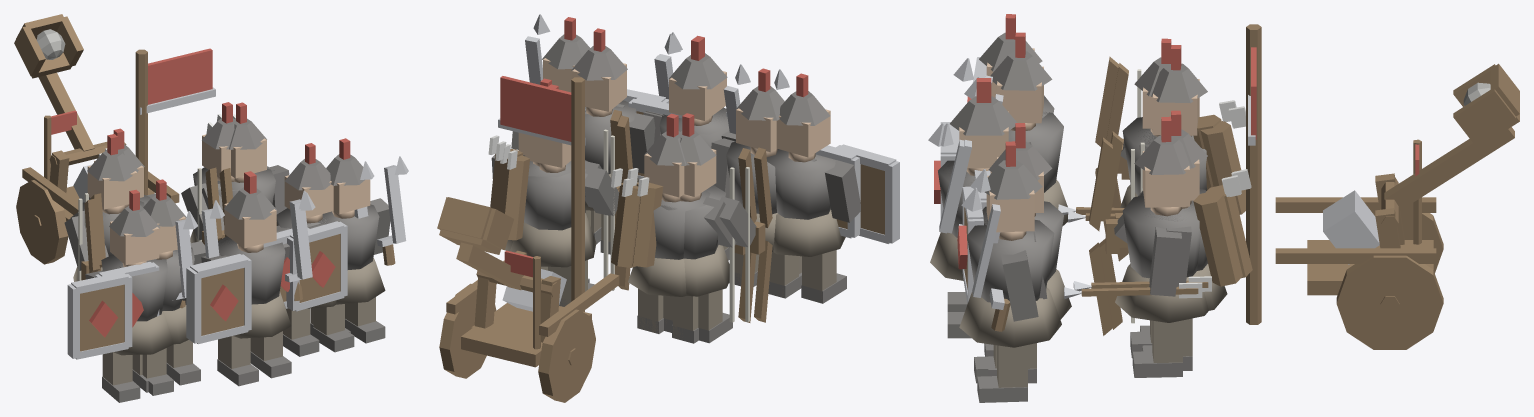
The model's file is troop-army-group.glb.
3 views of the same model, side by side, from view 1: azimuth 30°, elevation 25°; view 2: azimuth 150°, elevation 25°; view 3: azimuth 270°, elevation 25° (orthographic). The views are drawn at different scales.
Visible parts, largest first — view 1: siege_wheel_l, army_group_command_flag, front_l_shield, front_c_shield, front_r_body, front_c_body, front_l_body, army_group_command_flag_pole, front_r_shield, front_c_head, front_l_skirt, front_l_head (+78 smaller); view 2: siege_wheel_l, army_group_command_flag, front_l_body, siege_body, army_group_command_flag_pole, front_l_skirt, move_archer_r_body, move_archer_r_skirt, siege_wheel_r, move_archer_r_quiver, move_archer_l_quiver, archer_l_quiver (+70 smaller); view 3: siege_wheel_r, army_group_command_flag_pole, front_r_body, archer_r_quiver, front_r_skirt, archer_r_body, siege_arm, siege_arm_weight, archer_r_skirt, siege_rail_r, move_archer_l_quiver, siege_arm_basket_r (+49 smaller).
Part boxes in pixels (left/top/right/bottom): siege_wheel_l: left=16, top=180, right=68, bottom=264; army_group_command_flag: left=148, top=48, right=212, bottom=104; front_l_shield: left=80, top=284, right=124, bottom=351; front_c_shield: left=201, top=268, right=244, bottom=335; front_r_body: left=318, top=204, right=379, bottom=269; front_c_body: left=218, top=238, right=285, bottom=304; front_l_body: left=101, top=254, right=167, bottom=321; army_group_command_flag_pole: left=135, top=49, right=147, bottom=195; front_r_shield: left=299, top=234, right=340, bottom=302; front_c_head: left=226, top=209, right=276, bottom=248; front_l_skirt: left=113, top=311, right=173, bottom=355; front_l_head: left=110, top=221, right=159, bottom=265; siege_wheel_l: left=538, top=309, right=595, bottom=402; army_group_command_flag: left=500, top=76, right=571, bottom=141; front_l_body: left=766, top=149, right=836, bottom=219; siege_body: left=461, top=303, right=591, bottom=367; army_group_command_flag_pole: left=571, top=77, right=584, bottom=311; front_l_skirt: left=773, top=209, right=845, bottom=256; move_archer_r_body: left=524, top=160, right=587, bottom=230; move_archer_r_skirt: left=510, top=213, right=596, bottom=267; siege_wheel_r: left=439, top=283, right=496, bottom=378; move_archer_r_quiver: left=495, top=141, right=529, bottom=240; move_archer_l_quiver: left=611, top=168, right=640, bottom=267; archer_l_quiver: left=627, top=168, right=663, bottom=267; siege_wheel_r: left=1336, top=255, right=1443, bottom=349; army_group_command_flag_pole: left=1246, top=24, right=1261, bottom=324; front_r_body: left=967, top=220, right=1054, bottom=302; archer_r_quiver: left=1193, top=175, right=1242, bottom=286; front_r_skirt: left=959, top=287, right=1061, bottom=347; archer_r_body: left=1122, top=195, right=1200, bottom=278; siege_arm: left=1384, top=127, right=1514, bottom=211; siege_arm_weight: left=1323, top=190, right=1379, bottom=264; archer_r_skirt: left=1115, top=264, right=1208, bottom=322; siege_rail_r: left=1275, top=248, right=1436, bottom=263; move_archer_l_quiver: left=1200, top=106, right=1245, bottom=214; siege_arm_basket_r: left=1453, top=87, right=1515, bottom=144.
Bounding box in the file's own units: 0.4962 × 0.335 × 0.6086.
